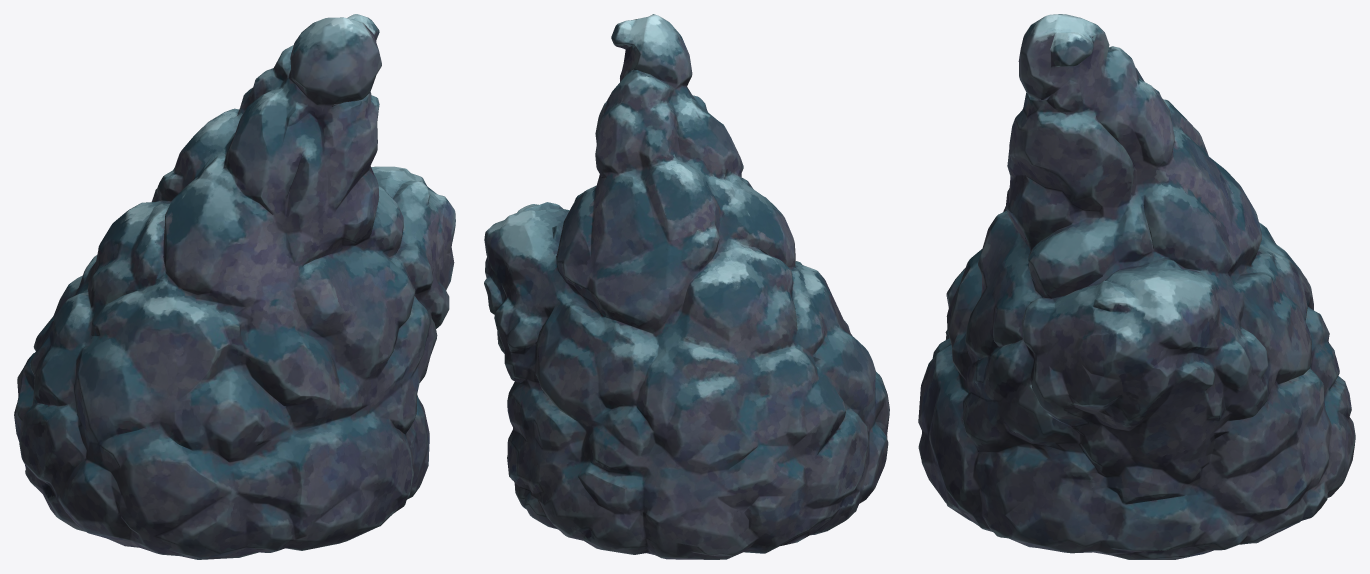
File: Rock_5.fbx
3 views of the same model, side by side, from view 1: azimuth 30°, elevation 25°; view 2: azimuth 150°, elevation 25°; view 3: azimuth 270°, elevation 25° (orthographic). The views are drawn at different scales.
Parts seen in each view (by area): view 1: Rock_5; view 2: Rock_5; view 3: Rock_5.
Part boxes in pixels (box(x1,y1,x2,y2)): Rock_5: box(14, 14, 455, 559); Rock_5: box(484, 14, 889, 559); Rock_5: box(918, 14, 1355, 559).
Bounding box in the file's own units: 288 × 323 × 250.
